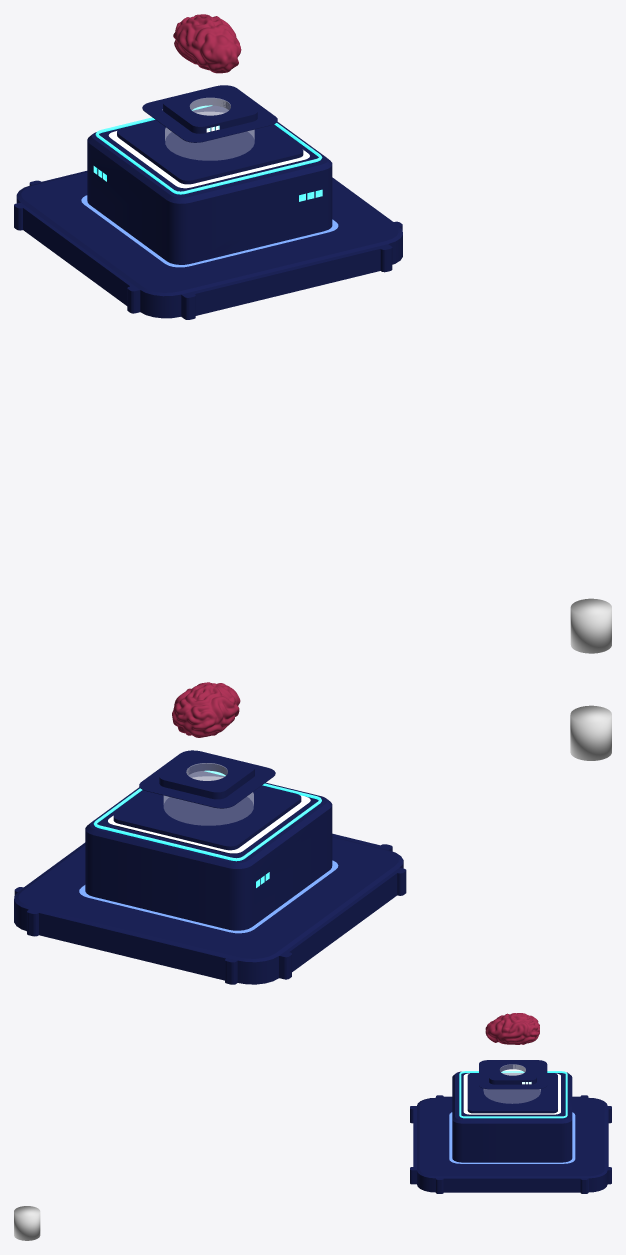
File: The_mystery_cityblend39.glb
3 renders of one model, top to bottom at view 1: azimuth 30°, elevation 25°; view 2: azimuth 150°, elevation 25°; view 3: azimuth 270°, elevation 25°, orthographic. The views are drawn at different scales.
Visible parts, largest first — view 1: Main_platform.001, Main_platform, Main_platform.005, Cube.001, Cube.003, Brain, Plane.004, Plane.006, Suppourt, Main_platform.002, Plane.002, Main_platform.007 (+1 smaller); view 2: Main_platform.001, Main_platform, Main_platform.005, Cube.002, Cube.003, Brain, Plane.004, Plane.006, Suppourt, Main_platform.002, Plane.002, Main_platform.008 (+2 smaller); view 3: Main_platform, Main_platform.001, Main_platform.005, Cube.004, Brain, Plane.004, Suppourt, Plane.006, Main_platform.002, Plane.002, Main_platform.008, Main_platform.007 (+1 smaller).
Boxes of the visible parts, <box> form: Main_platform.001: <box>87,105,332,264</box>; Main_platform: <box>16,171,402,318</box>; Main_platform.005: <box>117,105,303,188</box>; Cube.001: <box>181,244,392,319</box>; Cube.003: <box>14,202,140,313</box>; Brain: <box>173,14,241,73</box>; Plane.004: <box>163,87,257,133</box>; Plane.006: <box>570,598,611,653</box>; Suppourt: <box>142,85,277,142</box>; Main_platform.002: <box>165,112,254,160</box>; Plane.002: <box>95,105,322,194</box>; Main_platform.007: <box>108,131,309,188</box>; Main_platform.001: <box>85,782,332,930</box>; Main_platform: <box>14,836,403,984</box>; Main_platform.005: <box>113,771,301,853</box>; Cube.002: <box>27,909,237,984</box>; Cube.003: <box>279,867,406,979</box>; Brain: <box>172,682,240,737</box>; Plane.004: <box>159,752,254,799</box>; Plane.006: <box>570,705,611,760</box>; Suppourt: <box>139,750,275,808</box>; Main_platform.002: <box>164,776,253,825</box>; Plane.002: <box>93,770,321,861</box>; Main_platform.008: <box>79,860,338,933</box>; Main_platform: <box>417,1097,607,1192</box>; Main_platform.001: <box>452,1071,572,1162</box>; Main_platform.005: <box>467,1073,557,1115</box>; Cube.004: <box>436,1178,588,1193</box>; Brain: <box>485,1013,539,1044</box>; Plane.004: <box>489,1060,536,1084</box>; Suppourt: <box>479,1060,547,1089</box>; Plane.006: <box>14,1206,40,1240</box>; Main_platform.002: <box>484,1073,540,1103</box>; Plane.002: <box>459,1071,567,1118</box>; Main_platform.008: <box>449,1112,575,1163</box>; Main_platform.007: <box>463,1073,560,1114</box>.
Bounding box in the file's own units: 8.3 × 10.09 × 24.78.
